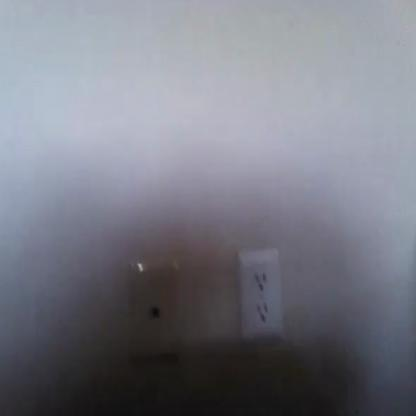OUTLET: (237, 247, 284, 342)
